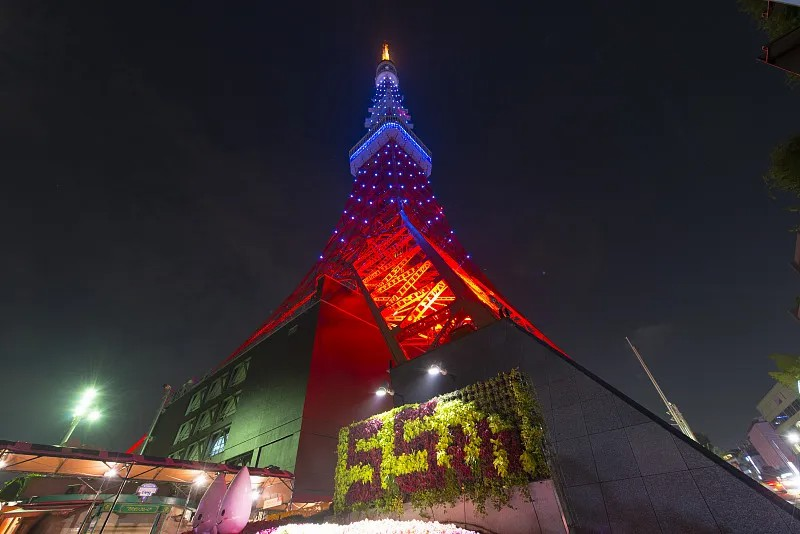Tokyo: (222, 40, 573, 361)
